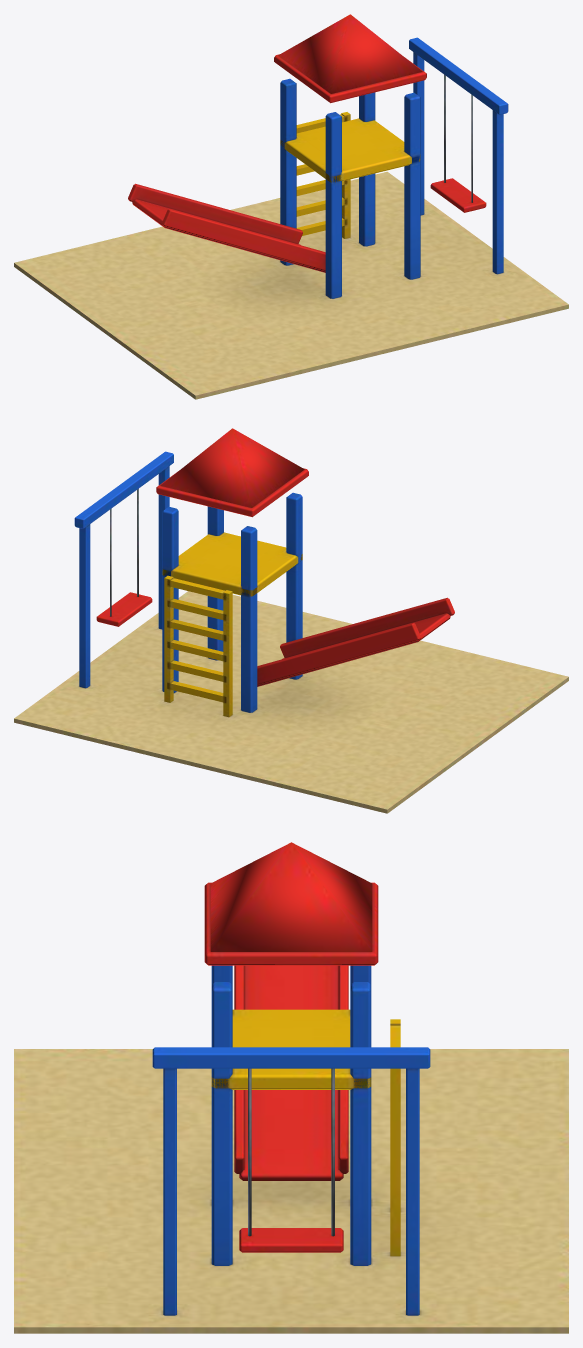
The model's file is playground_slide.glb.
3 views of the same model, one above another, from view 1: azimuth 30°, elevation 25°; view 2: azimuth 150°, elevation 25°; view 3: azimuth 270°, elevation 25° (orthographic). The views are drawn at different scales.
Parts seen in each view (by area): view 1: playground_slide, swayY_swing; view 2: playground_slide, swayY_swing; view 3: playground_slide, swayY_swing.
Boxes of the visible parts, x1,y1,x2,y2 form: playground_slide: (14, 14, 568, 399); swayY_swing: (430, 74, 486, 212); playground_slide: (14, 428, 568, 813); swayY_swing: (96, 488, 152, 626); playground_slide: (14, 842, 568, 1333); swayY_swing: (239, 1068, 343, 1252).
Size of the model in its own units: 1.9 by 1.28 by 1.6.
Materials: 1 (1 with a texture image).
